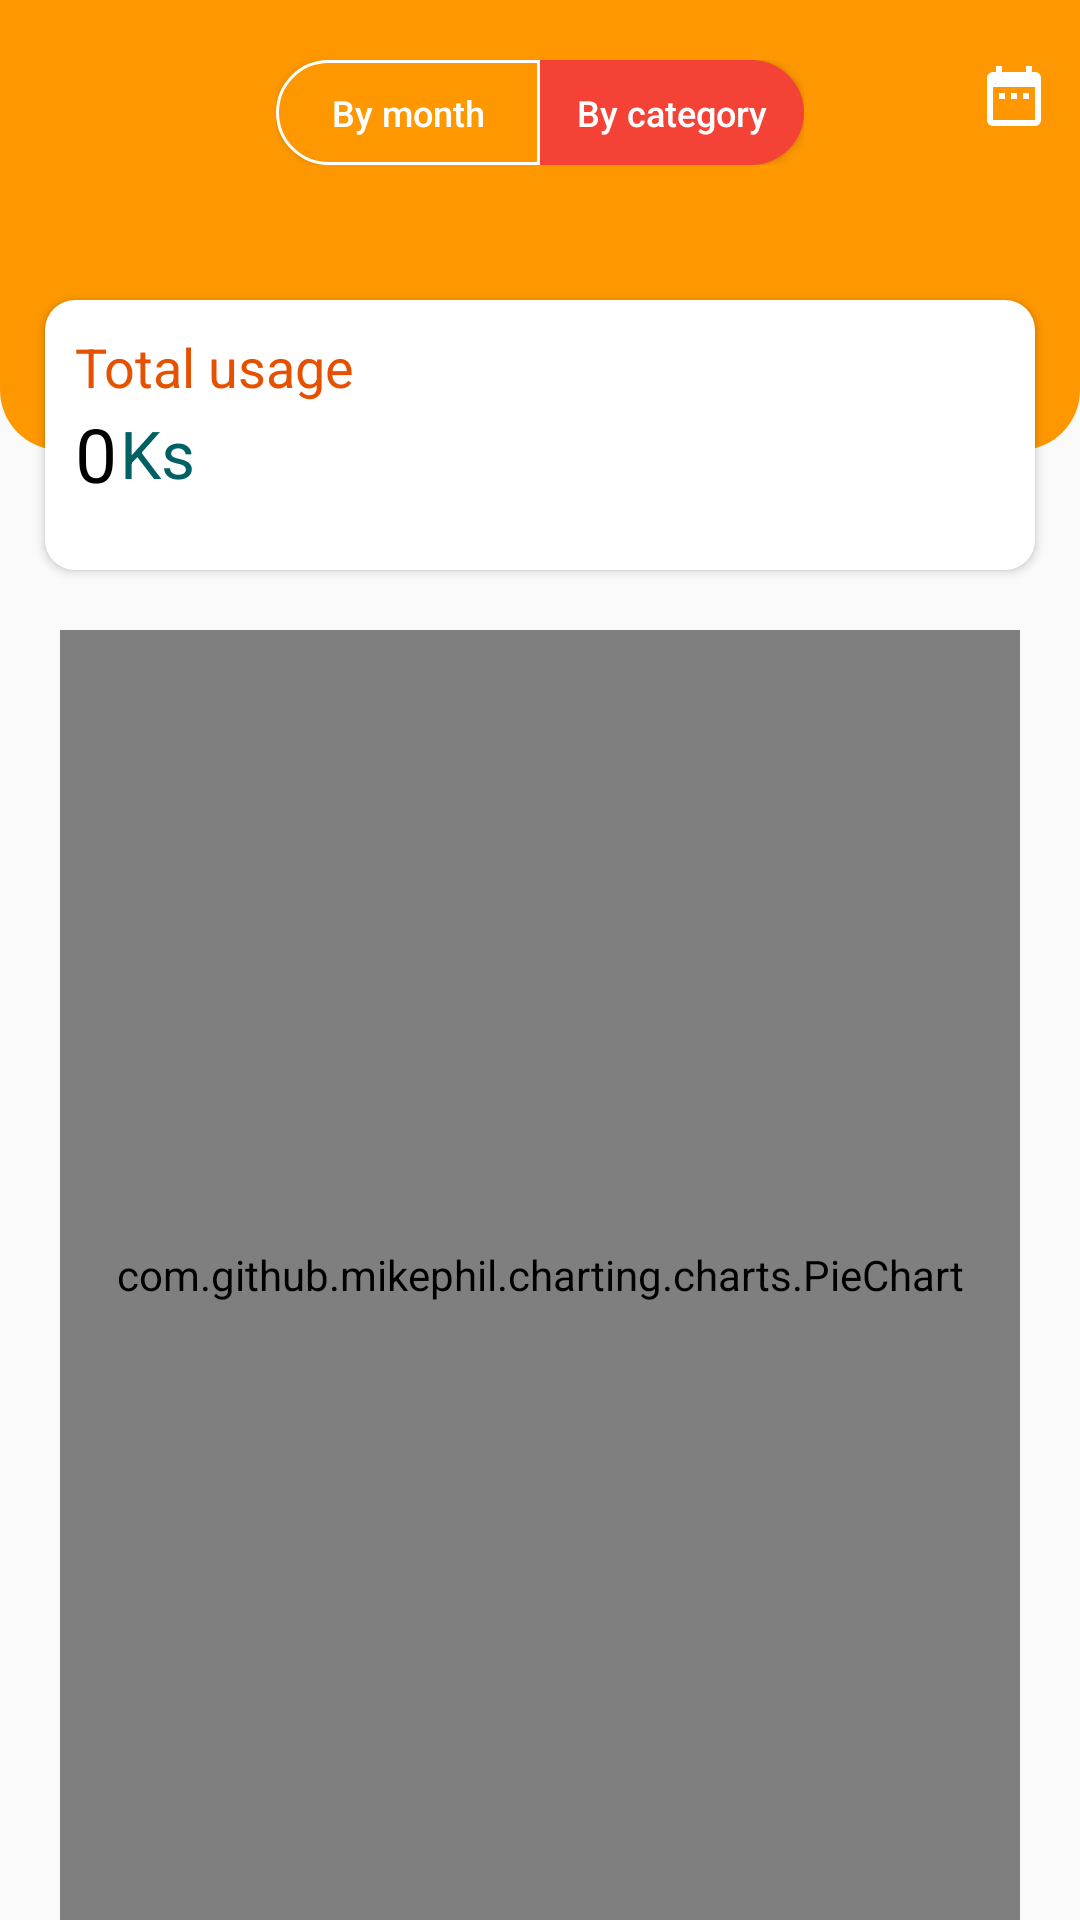

Icon click points for this 1080 × 1920 phone screenshot, format point (x, y):
date range: point (1014, 96)
